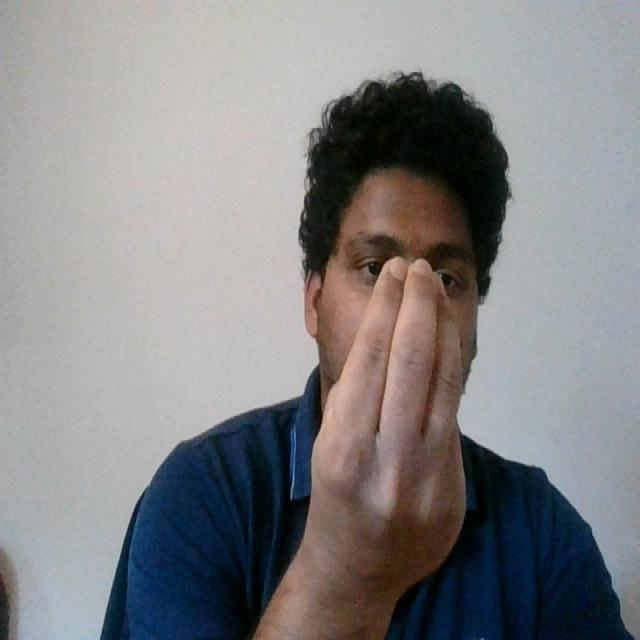Please: (300, 248, 475, 606)
